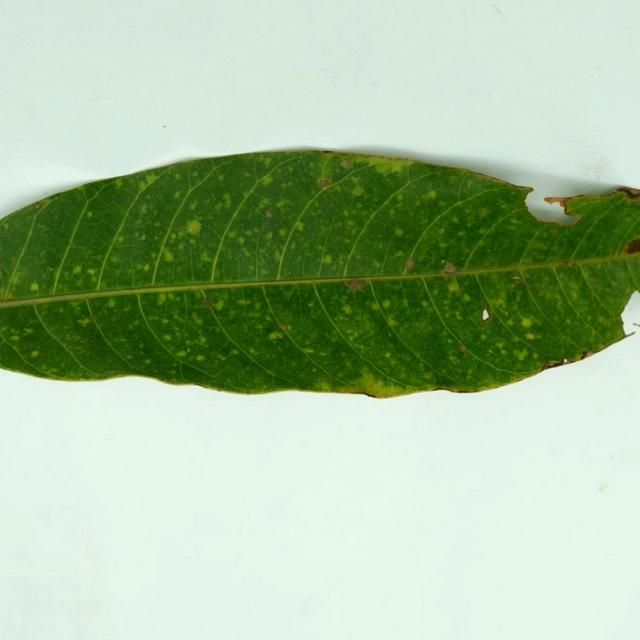Mango: (0, 150, 639, 397)
Powdery_Mildew: (336, 369, 413, 395), (332, 308, 383, 347), (181, 218, 206, 239), (374, 161, 403, 176), (509, 275, 533, 289), (346, 278, 367, 292), (441, 262, 459, 275), (543, 196, 567, 205), (403, 257, 416, 271), (257, 197, 271, 210), (162, 248, 174, 262), (221, 193, 232, 208), (631, 237, 640, 255), (447, 281, 460, 293), (317, 177, 331, 188), (481, 309, 492, 323), (352, 186, 365, 197), (515, 348, 528, 359), (339, 158, 352, 169), (213, 299, 224, 311), (276, 199, 289, 209), (477, 207, 490, 217), (268, 331, 282, 340), (77, 318, 91, 327), (262, 175, 273, 186), (294, 221, 305, 232), (520, 318, 532, 328), (458, 343, 468, 355), (4, 292, 16, 302), (146, 174, 156, 185), (202, 252, 212, 263), (106, 298, 116, 308), (322, 255, 333, 264), (381, 300, 391, 309), (427, 190, 437, 199), (158, 293, 167, 303), (139, 205, 148, 215), (273, 250, 281, 261), (72, 265, 81, 274), (343, 305, 352, 314), (227, 231, 237, 239), (394, 249, 404, 257), (524, 333, 535, 340), (87, 268, 96, 276), (30, 283, 39, 291), (395, 228, 404, 236), (189, 202, 197, 211), (265, 231, 273, 240), (278, 229, 287, 237), (173, 190, 181, 199), (33, 201, 42, 209), (177, 350, 187, 357), (237, 299, 248, 305), (195, 355, 205, 361), (304, 348, 314, 354), (10, 335, 20, 341), (143, 264, 150, 272), (31, 350, 39, 357), (199, 336, 207, 343), (163, 334, 171, 341), (116, 237, 124, 243), (139, 234, 147, 240), (600, 317, 608, 323), (86, 211, 92, 218), (249, 348, 256, 354), (231, 349, 239, 354), (144, 359, 151, 364)
